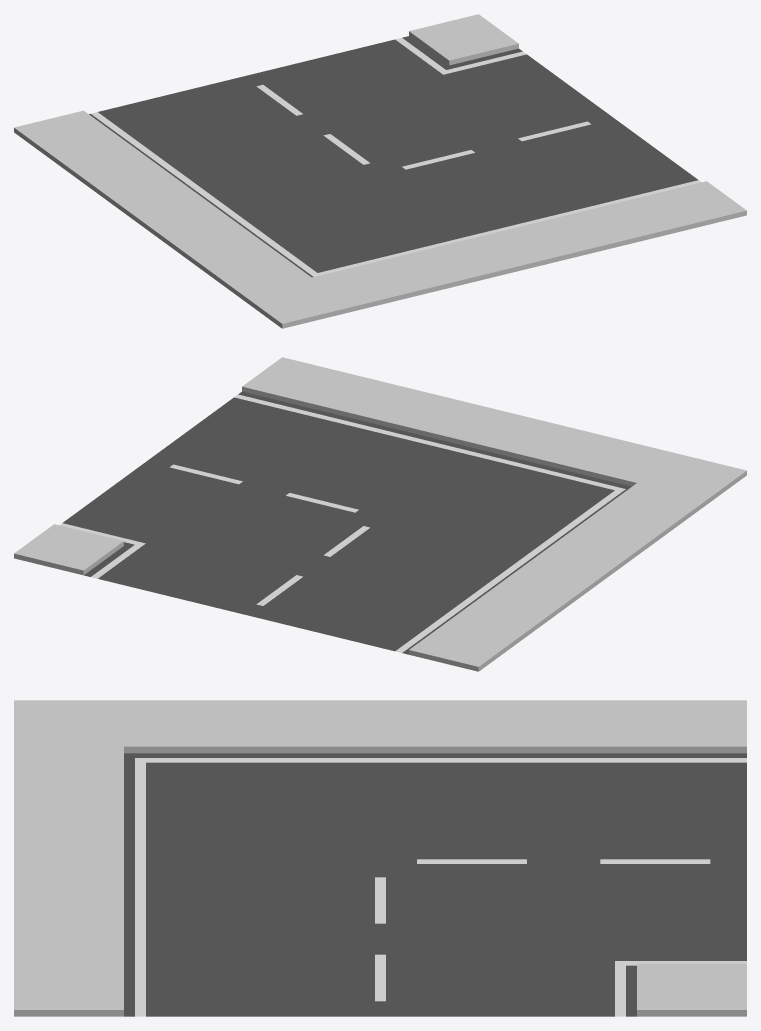
File: road_corner.glb
3 views of the same model, one above another, from view 1: azimuth 30°, elevation 25°; view 2: azimuth 150°, elevation 25°; view 3: azimuth 270°, elevation 25° (orthographic). The views are drawn at different scales.
Parts seen in each view (by area): view 1: SPW_Urban_Road 2way_Corner_02; view 2: SPW_Urban_Road 2way_Corner_02; view 3: SPW_Urban_Road 2way_Corner_02.
Boxes of the visible parts, box(x1,y1,x2,y2) form: SPW_Urban_Road 2way_Corner_02: box(14, 14, 746, 328); SPW_Urban_Road 2way_Corner_02: box(14, 357, 746, 671); SPW_Urban_Road 2way_Corner_02: box(14, 700, 746, 1016).
Bounding box in the file's own units: 20 × 0.2 × 20.
Materials: 1 (1 with a texture image).
